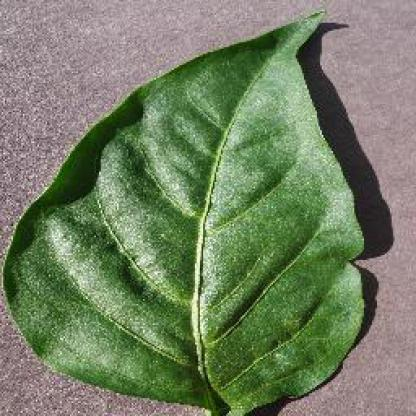good leaf: (52, 84, 344, 392)
